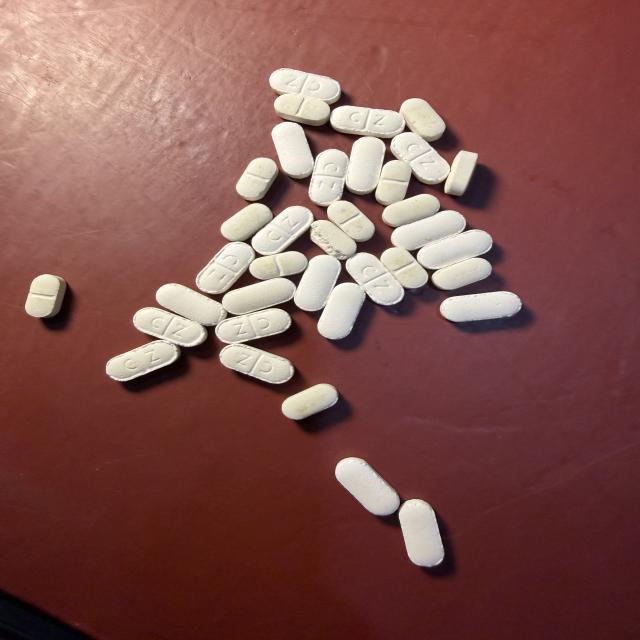pill: (336, 458, 399, 516), (399, 499, 444, 567), (346, 253, 404, 305), (391, 132, 449, 184), (196, 242, 255, 293), (252, 206, 313, 255), (106, 341, 180, 381), (391, 210, 465, 250), (156, 284, 226, 326), (417, 230, 492, 269), (220, 344, 294, 383), (133, 307, 207, 346), (294, 255, 341, 311), (318, 283, 365, 339), (223, 278, 295, 314), (216, 309, 291, 343), (269, 69, 340, 104), (440, 292, 521, 322), (330, 106, 405, 138), (272, 122, 313, 178), (309, 149, 348, 206), (346, 137, 385, 194), (282, 384, 338, 419), (221, 203, 272, 241), (381, 248, 428, 289), (400, 99, 445, 141), (327, 201, 374, 241), (432, 258, 491, 289), (383, 194, 439, 226), (236, 158, 278, 200), (25, 274, 66, 317), (311, 220, 356, 259), (275, 94, 330, 125), (375, 160, 411, 205), (250, 252, 307, 279), (445, 151, 478, 195)
